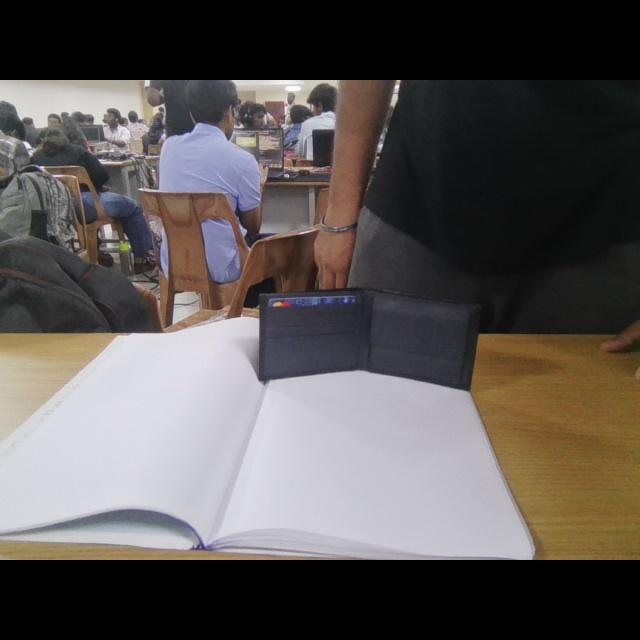wallet: (250, 276, 488, 396)
